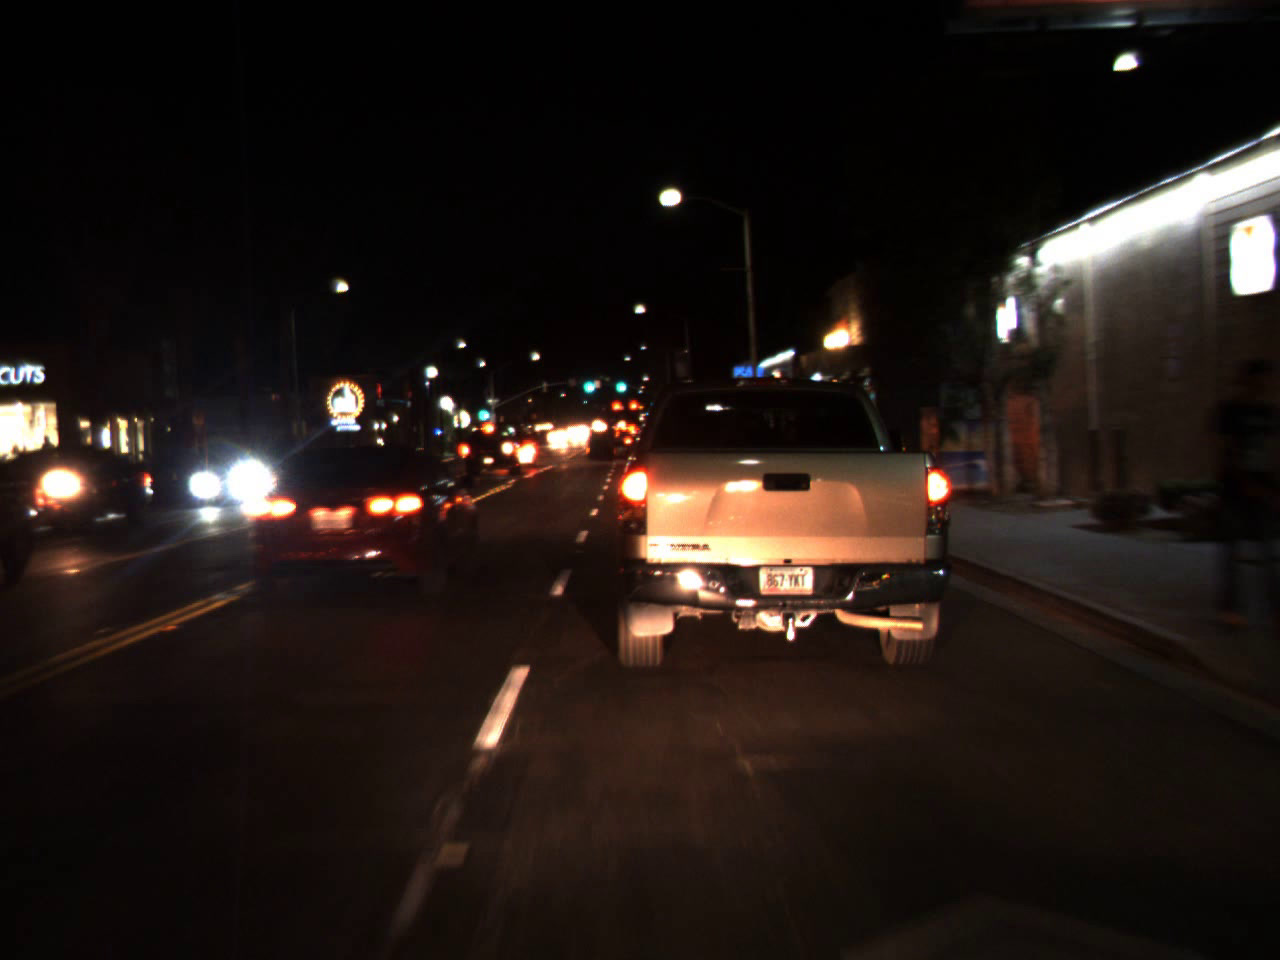go: (579, 367, 597, 397), (474, 395, 492, 425), (612, 369, 628, 396)
